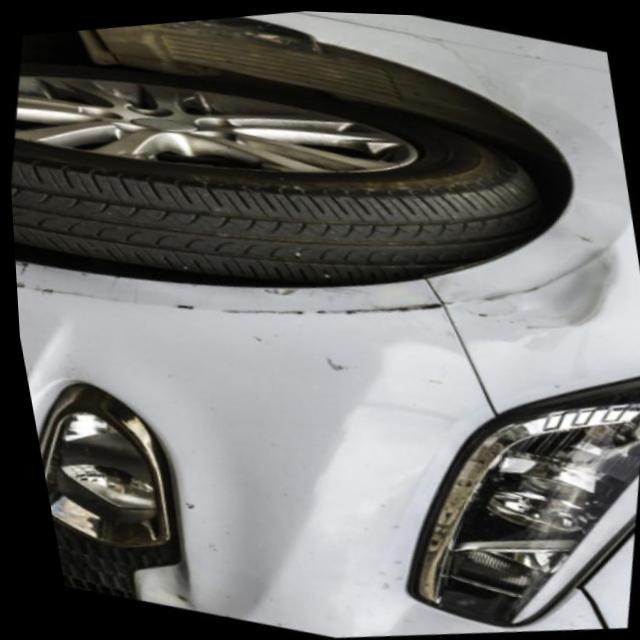Dent: (490, 194, 640, 366)
